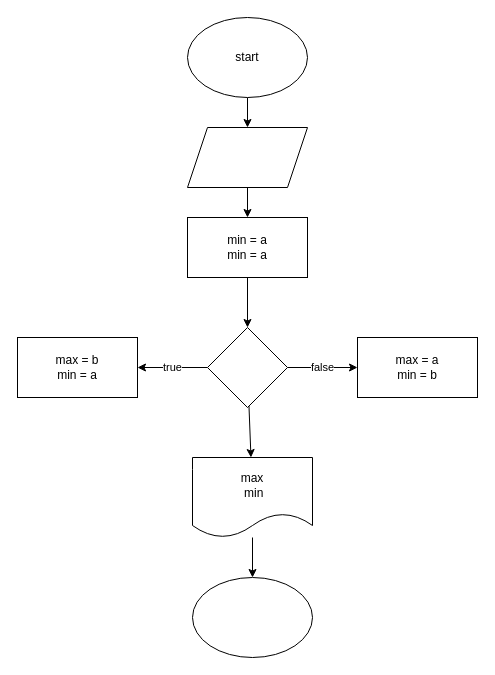
Image size: 495x675. Some labels were removed from this diagram. Here are the shapes that lost their labels. From the top down, the box of each, then its label:
(186, 126, 308, 188): a, b
(206, 326, 288, 408): b > max
(192, 576, 312, 658): end
